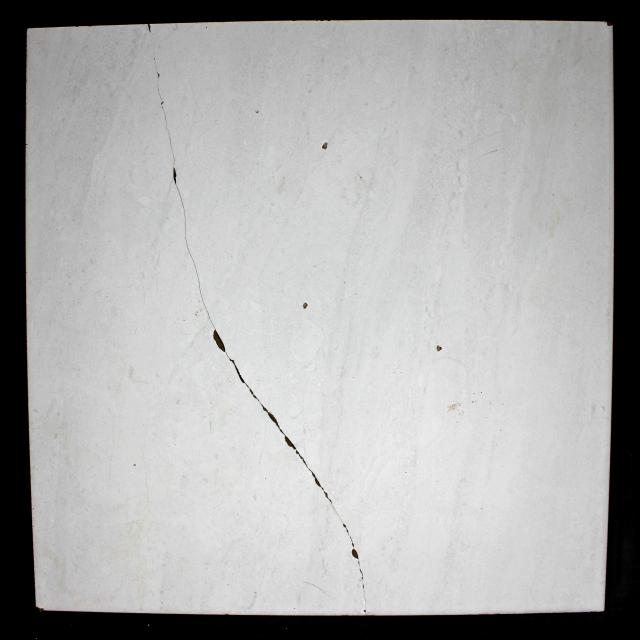edge-chipping: (606, 21, 613, 27), (36, 606, 44, 611), (147, 24, 151, 33)
hole: (212, 329, 226, 353), (350, 548, 359, 560), (435, 345, 443, 352), (322, 142, 328, 150), (302, 302, 308, 309), (132, 462, 138, 468), (255, 109, 260, 114), (160, 101, 164, 105)
line: (188, 253, 216, 328), (160, 106, 177, 166), (175, 186, 188, 219), (183, 220, 191, 254), (156, 86, 164, 99)
